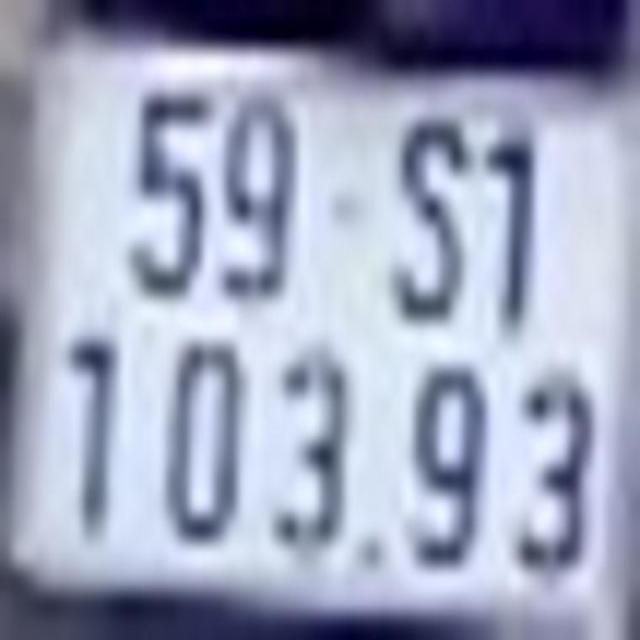0: (166, 330, 240, 546)
1: (480, 122, 540, 338), (68, 336, 116, 547)
3: (269, 343, 346, 560), (519, 368, 592, 579)
5: (132, 88, 206, 301)
9: (413, 348, 486, 580), (221, 91, 294, 303)
S: (392, 116, 468, 324)
